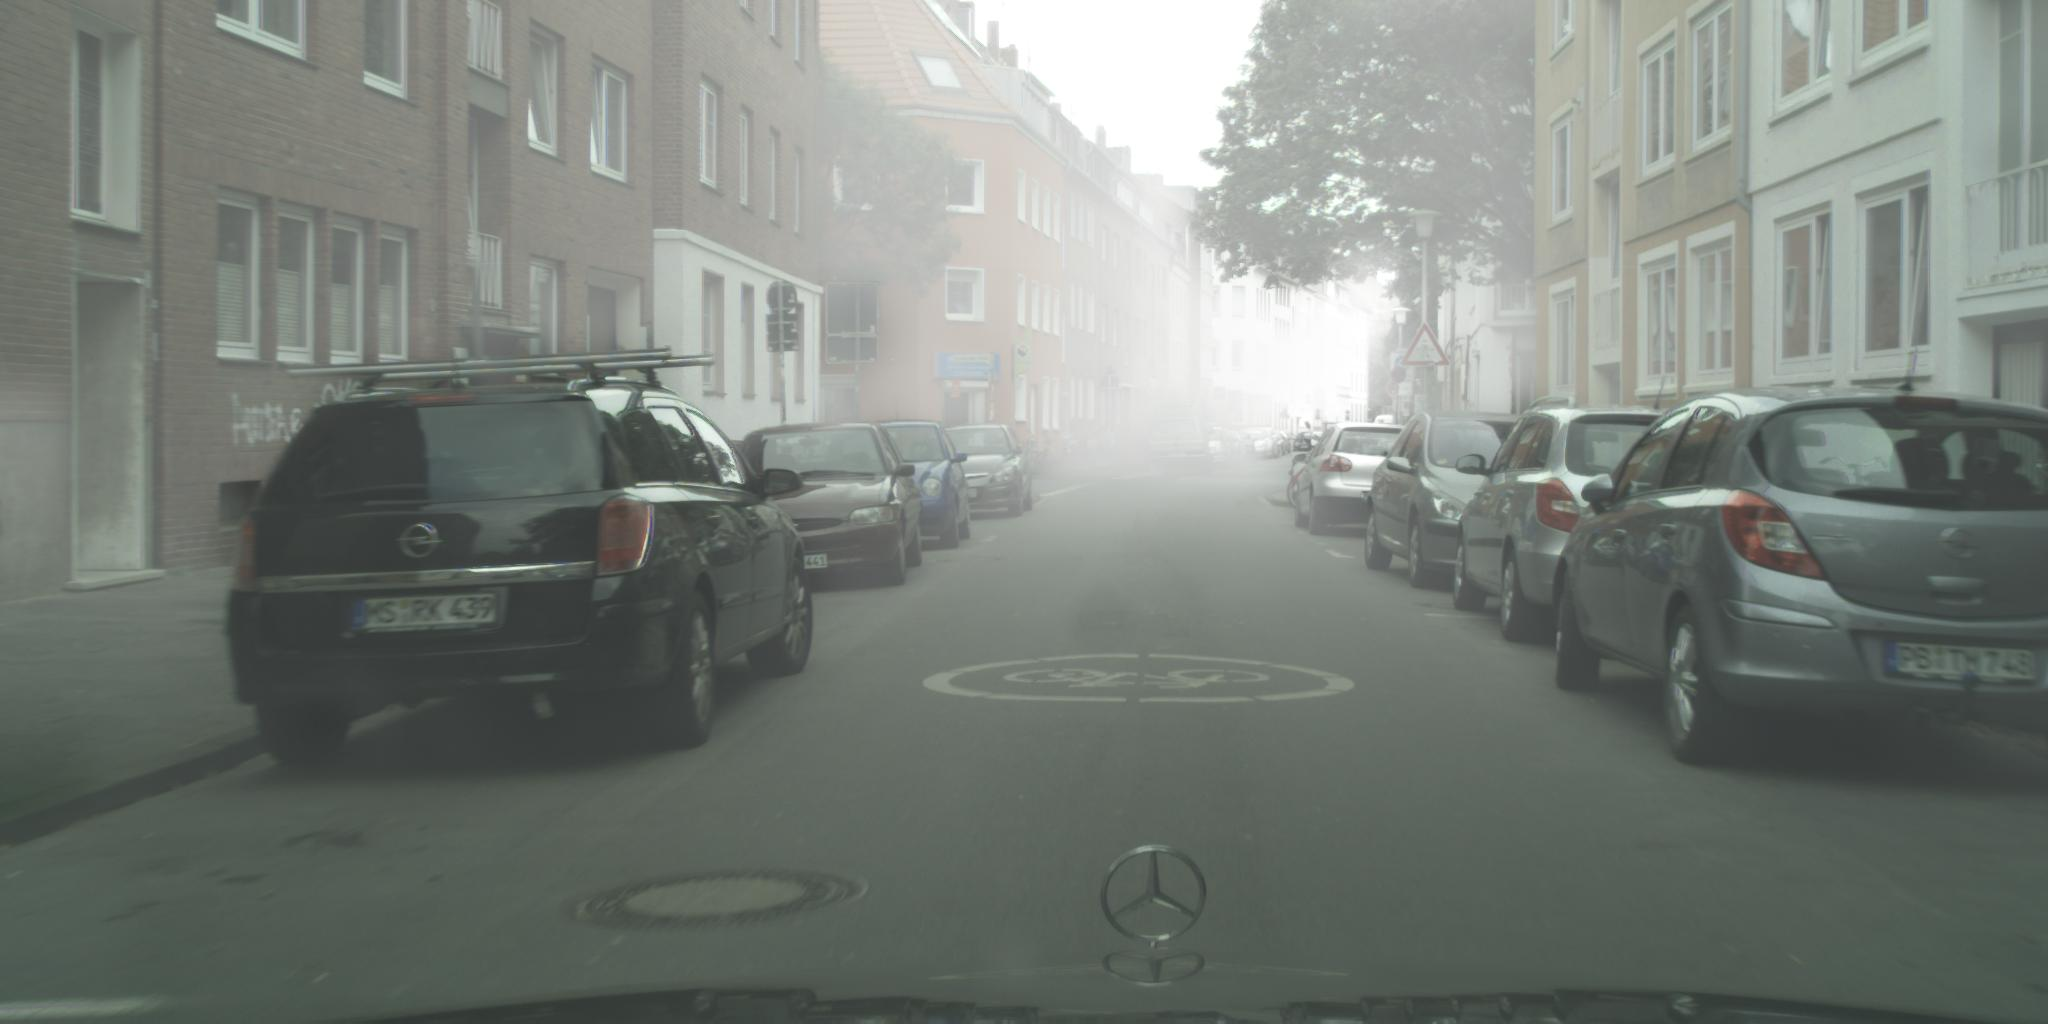bicycle: (1135, 432, 1155, 464)
car: (225, 347, 816, 767), (1556, 385, 2048, 769), (1454, 394, 1680, 647), (737, 421, 923, 589), (1364, 411, 1529, 590), (1294, 423, 1417, 537), (876, 421, 972, 551), (942, 424, 1034, 519), (1145, 402, 1213, 478), (1202, 427, 1234, 470), (1230, 430, 1258, 464), (1294, 431, 1334, 455), (1219, 430, 1240, 470), (1266, 430, 1292, 457), (1229, 431, 1249, 466), (1370, 415, 1396, 428)
motorcycle: (1287, 421, 1324, 513)
